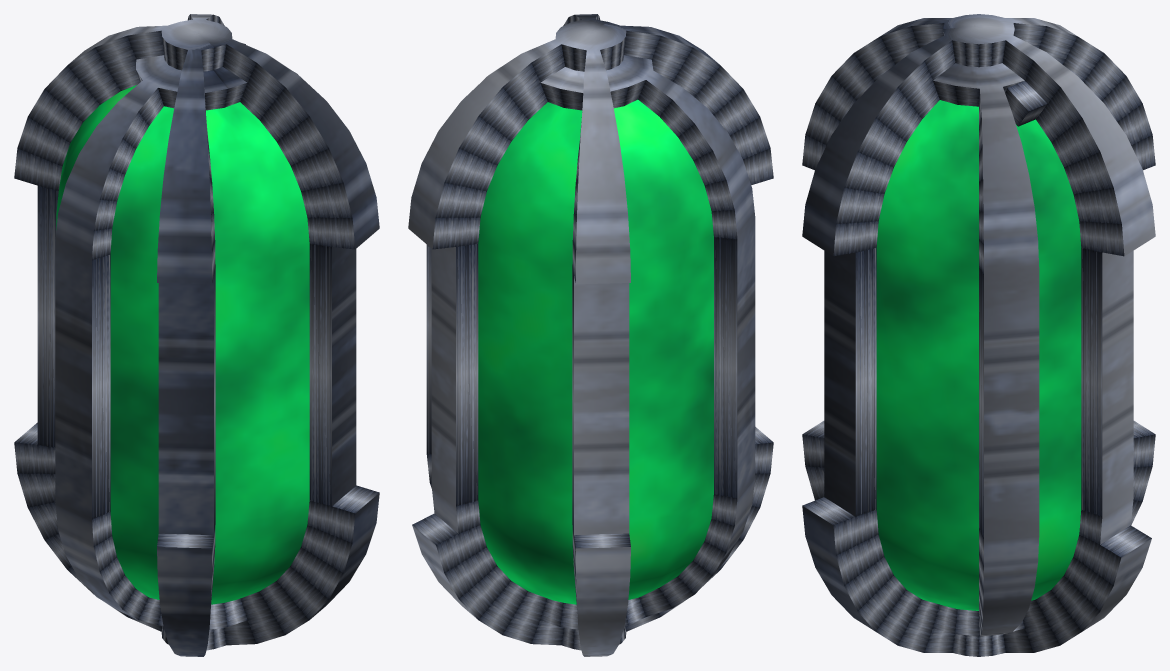
File: OrbOfNUke.fbx
3 views of the same model, side by side, from view 1: azimuth 30°, elevation 25°; view 2: azimuth 150°, elevation 25°; view 3: azimuth 270°, elevation 25° (orthographic).
Visible parts, largest first — view 1: CoreHold, Core; view 2: CoreHold, Core; view 3: CoreHold, Core.
Part boxes in pixels (x1,y1,x2,y2): CoreHold: (14,14,379,656); Core: (56,85,309,604); CoreHold: (408,14,773,656); Core: (478,99,713,604); CoreHold: (802,14,1155,656); Core: (876,100,1081,610).
Size of the model in its own units: 176 by 354 by 183.
